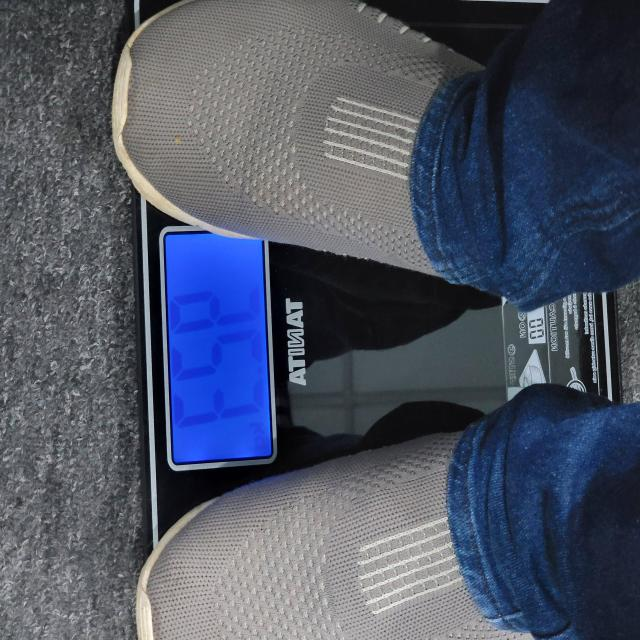ws: (146, 225, 503, 540)
